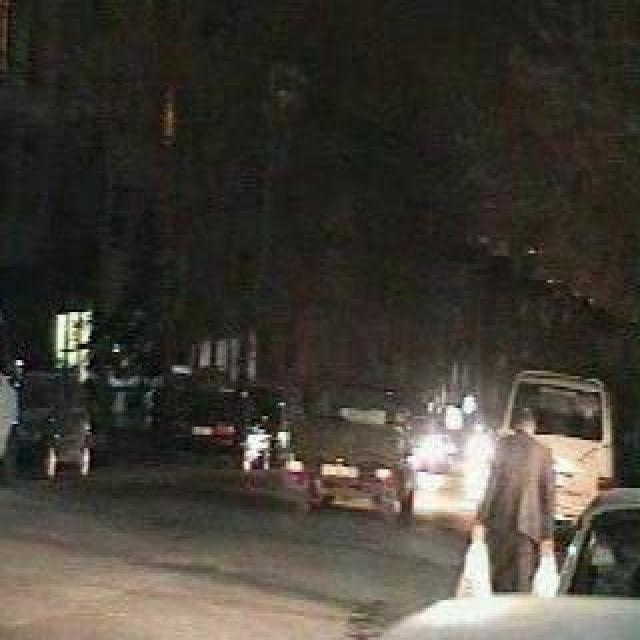other: (397, 389, 507, 514)
